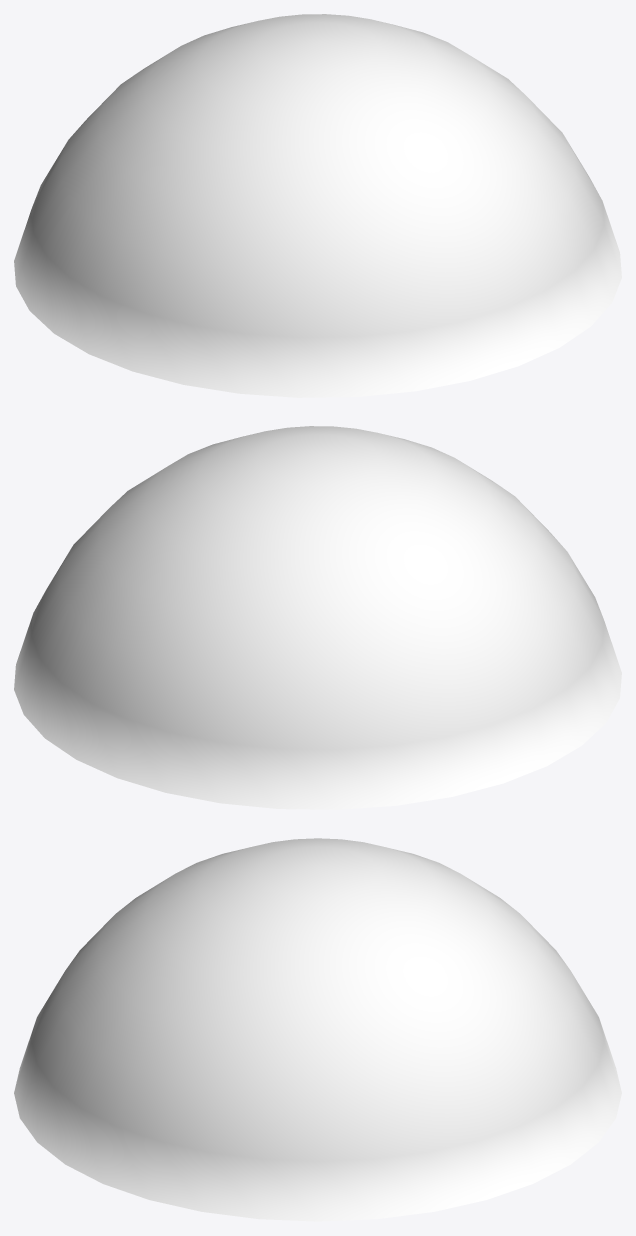
File: snowPool.obj
The picture shows the model from 3 angles, top to bottom: view 1: azimuth 30°, elevation 25°; view 2: azimuth 150°, elevation 25°; view 3: azimuth 270°, elevation 25°; orthographic projection.
Visible parts, largest first — view 1: 球; view 2: 球; view 3: 球.
Boxes of the visible parts, x1,y1,x2,y2 form: 球: (14,14,621,397); 球: (14,426,621,809); 球: (14,838,621,1221).
Bounding box in the file's own units: 6.08 × 2.5 × 6.08.
1 material, 1 textured.
